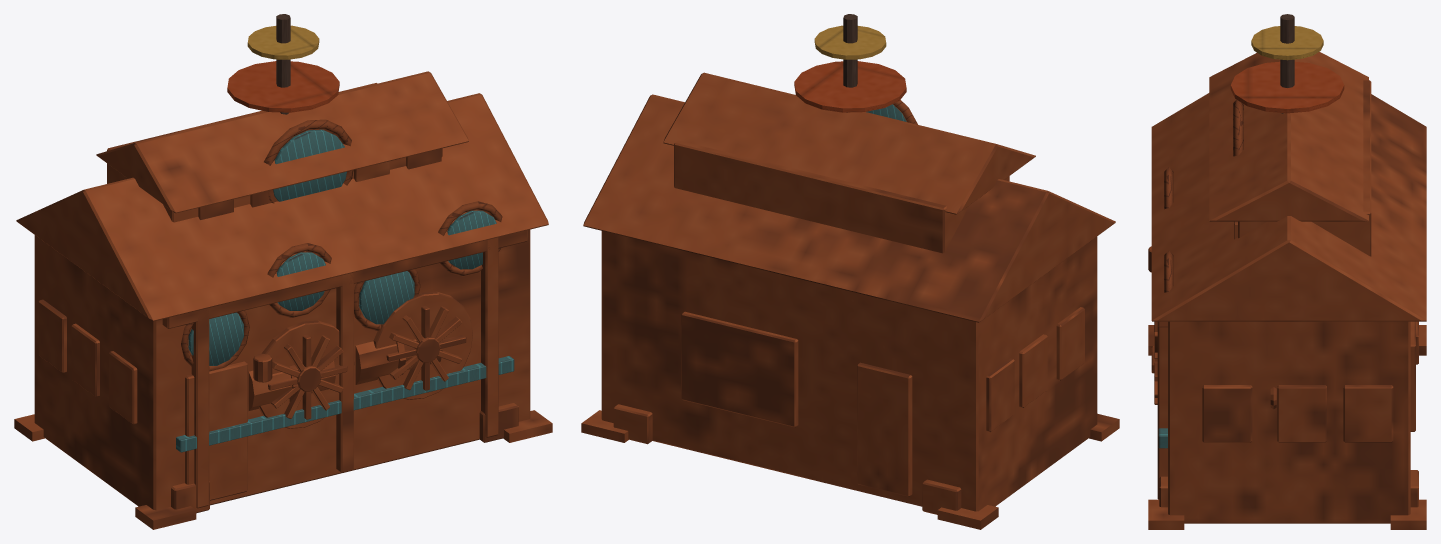
The model's file is dynamo-hall.e9.glb.
3 views of the same model, side by side, from view 1: azimuth 30°, elevation 25°; view 2: azimuth 150°, elevation 25°; view 3: azimuth 270°, elevation 25° (orthographic).
Parts seen in each view (by area): view 1: DynamoHallE9WeatherSpire; view 2: DynamoHallE9WeatherSpire; view 3: DynamoHallE9WeatherSpire.
Part boxes in pixels (left/top/right/bottom): DynamoHallE9WeatherSpire: left=14, top=14, right=552, bottom=529; DynamoHallE9WeatherSpire: left=581, top=14, right=1119, bottom=529; DynamoHallE9WeatherSpire: left=1148, top=14, right=1426, bottom=529.
Size of the model in its own units: 5.38 by 5.32 by 3.24.
Materials: 1 (1 with a texture image).
